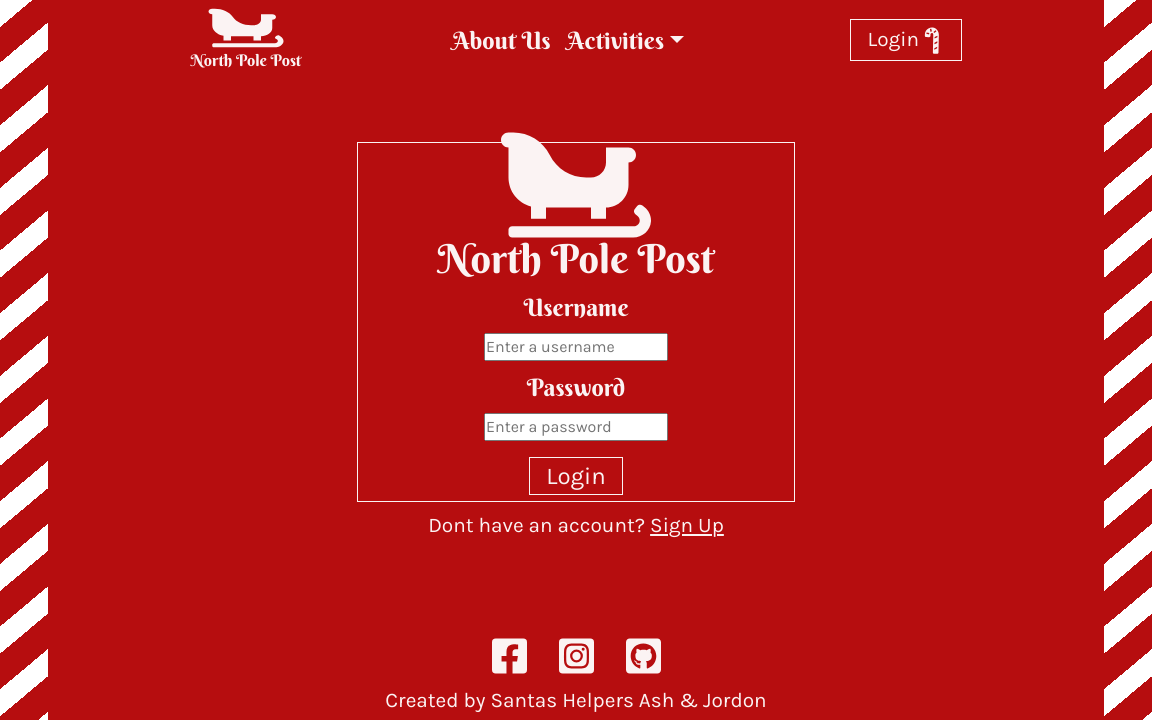
Scenario: Login fail
Type "loginFail" into the field with class "username" at (576, 347), box 484,333 -> 668,361
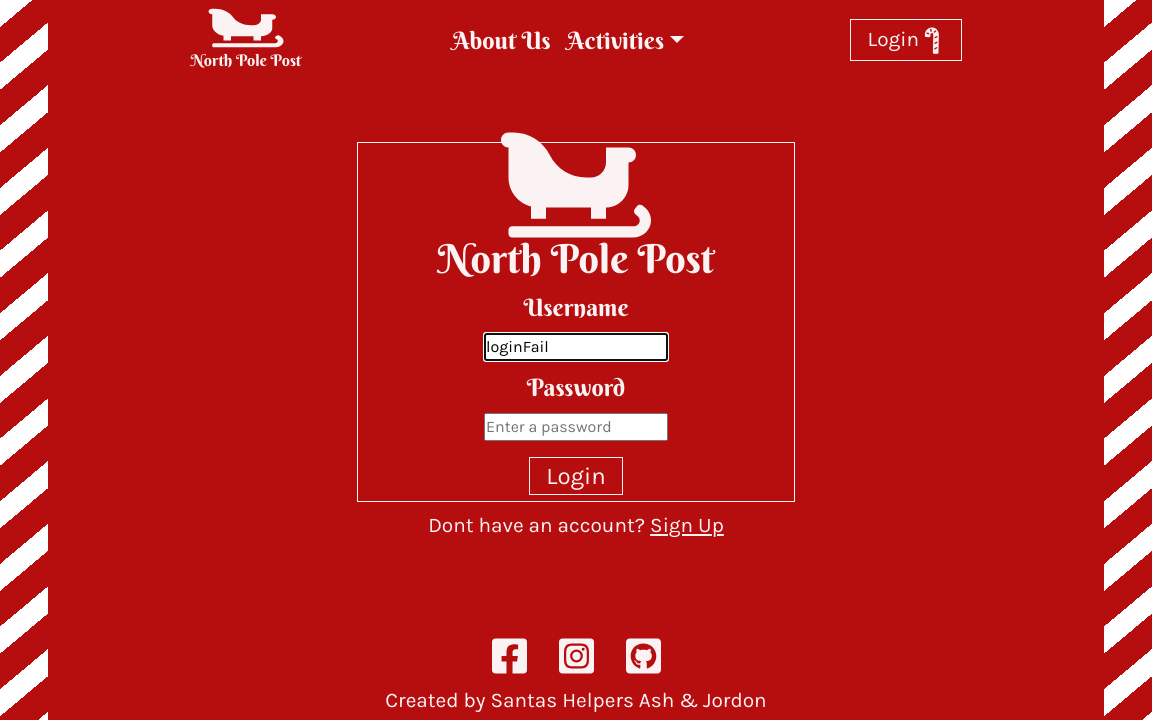
Type "loginFail" into the password field with placeholder "Enter a password" at (576, 427), box 484,413 -> 668,441
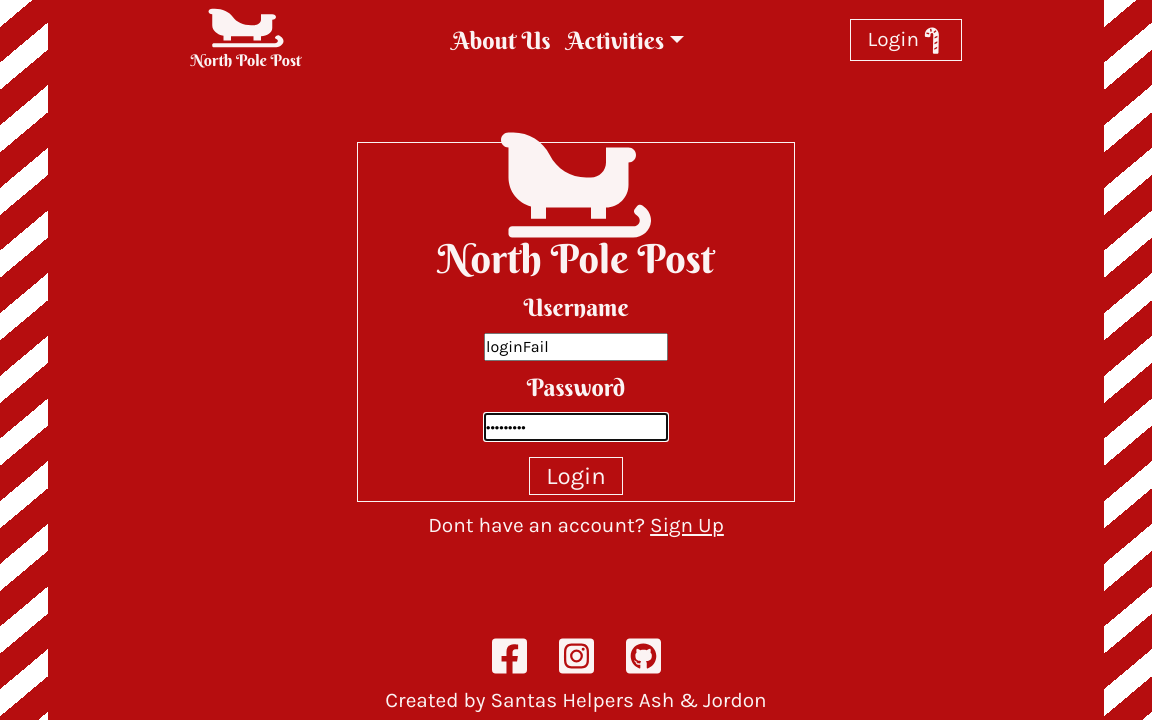
Submit the form with class "login", box 484,289 -> 668,503
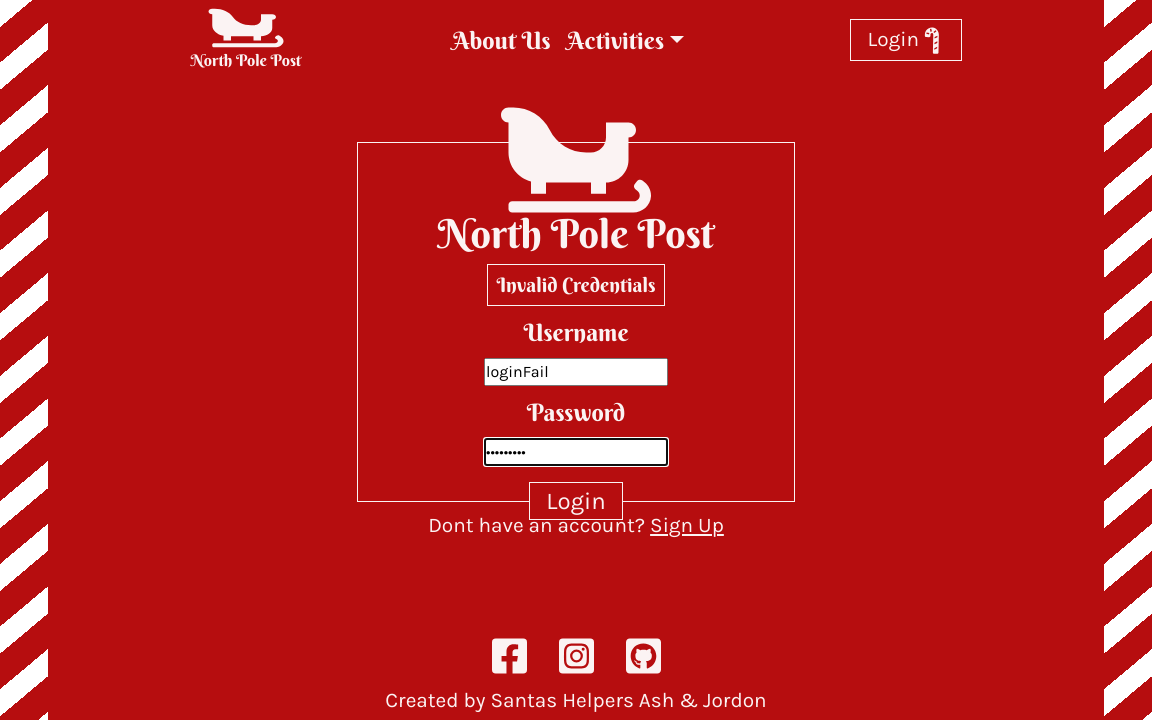
Expected: the heading "Invalid Credentials" is shown, 488,264 -> 665,306
